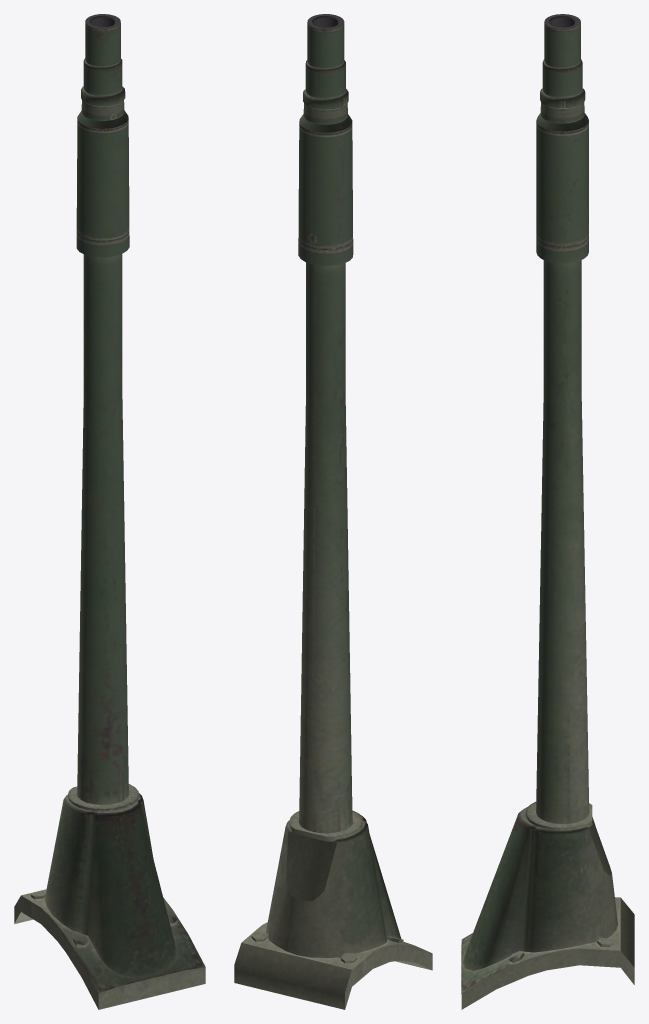
File: Gun_06.glb
3 renders of one model, left to right at view 1: azimuth 30°, elevation 25°; view 2: azimuth 150°, elevation 25°; view 3: azimuth 270°, elevation 25°, orthographic. The views are drawn at different scales.
Visible parts, largest first — view 1: set_0_group_0; view 2: set_0_group_0; view 3: set_0_group_0.
Boxes of the visible parts, <box> form: set_0_group_0: <box>14,14,205,1009</box>; set_0_group_0: <box>234,14,432,1009</box>; set_0_group_0: <box>461,14,634,1009</box>.
Bounding box in the file's own units: 0.4244 × 3.55 × 0.5799.
Materials: 1 (1 with a texture image).
